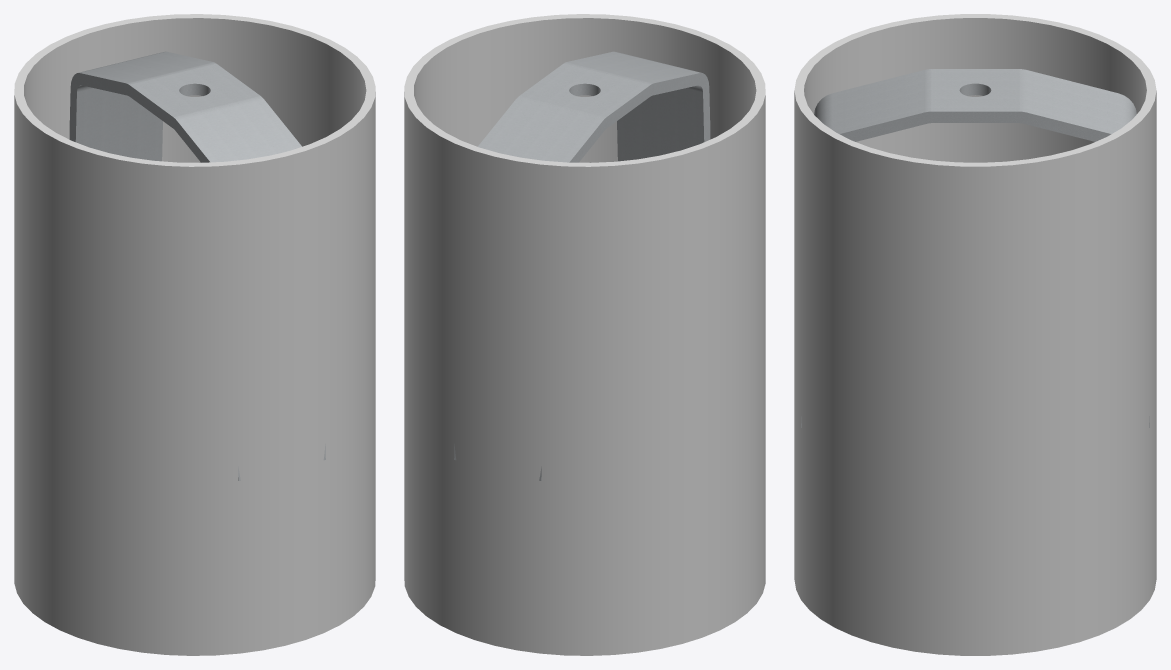
Rendered from LisseIIPlafon.glb.
3 renders of one model, left to right at view 1: azimuth 30°, elevation 25°; view 2: azimuth 150°, elevation 25°; view 3: azimuth 270°, elevation 25°, orthographic.
Visible parts, largest first — view 1: 3DGeom-2, 3DGeom-3, 3DGeom-1; view 2: 3DGeom-2, 3DGeom-3, 3DGeom-1; view 3: 3DGeom-2, 3DGeom-3, 3DGeom-1.
Part boxes in pixels (x1=…): 3DGeom-2: x1=14, y1=18, x2=375, y2=655; 3DGeom-3: x1=69, y1=51, x2=325, y2=480; 3DGeom-1: x1=14, y1=14, x2=375, y2=166; 3DGeom-2: x1=404, y1=18, x2=765, y2=655; 3DGeom-3: x1=454, y1=51, x2=710, y2=480; 3DGeom-1: x1=404, y1=14, x2=765, y2=166; 3DGeom-2: x1=794, y1=18, x2=1156, y2=655; 3DGeom-3: x1=801, y1=69, x2=1149, y2=427; 3DGeom-1: x1=794, y1=14, x2=1156, y2=166.
Bounding box in the file's own units: 0.0569 × 0.085 × 0.057.
3 materials, 1 textured.
